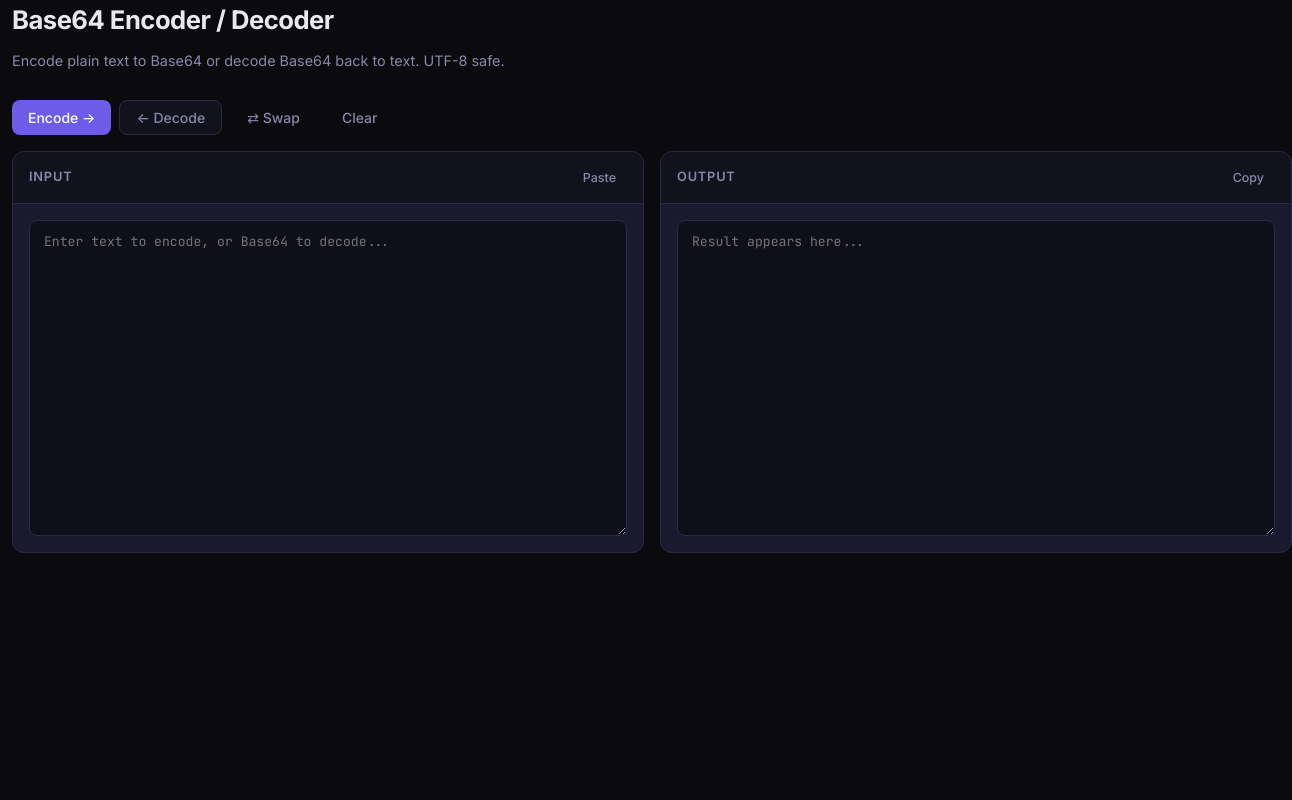
Test case: Base64Tool › decodes invalid Base64 shows error
Type "!!!invalid!!!" into the text box with placeholder "Enter text to encode, or Base64 to decode..." at (328,378), box [29,220,627,536]
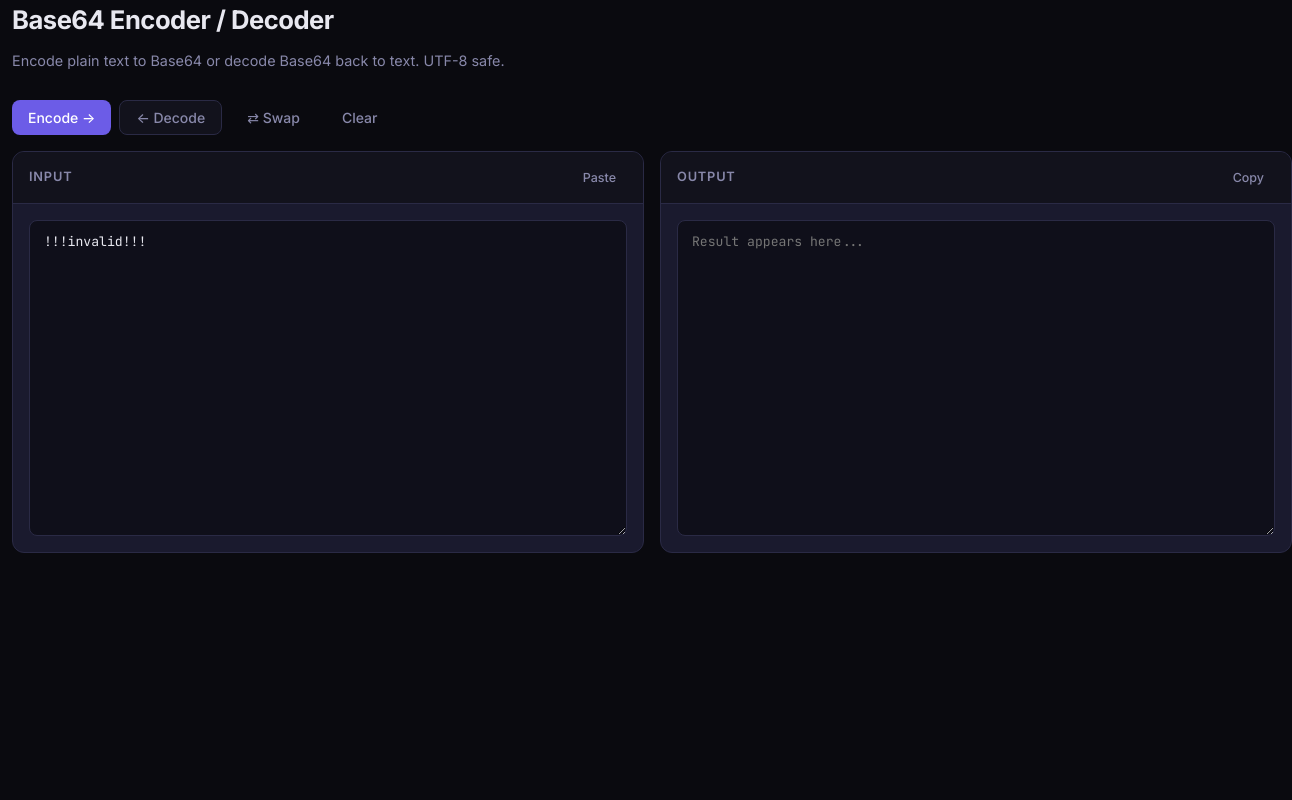
Click the button "← Decode" at (171,118), box [119,100,222,135]
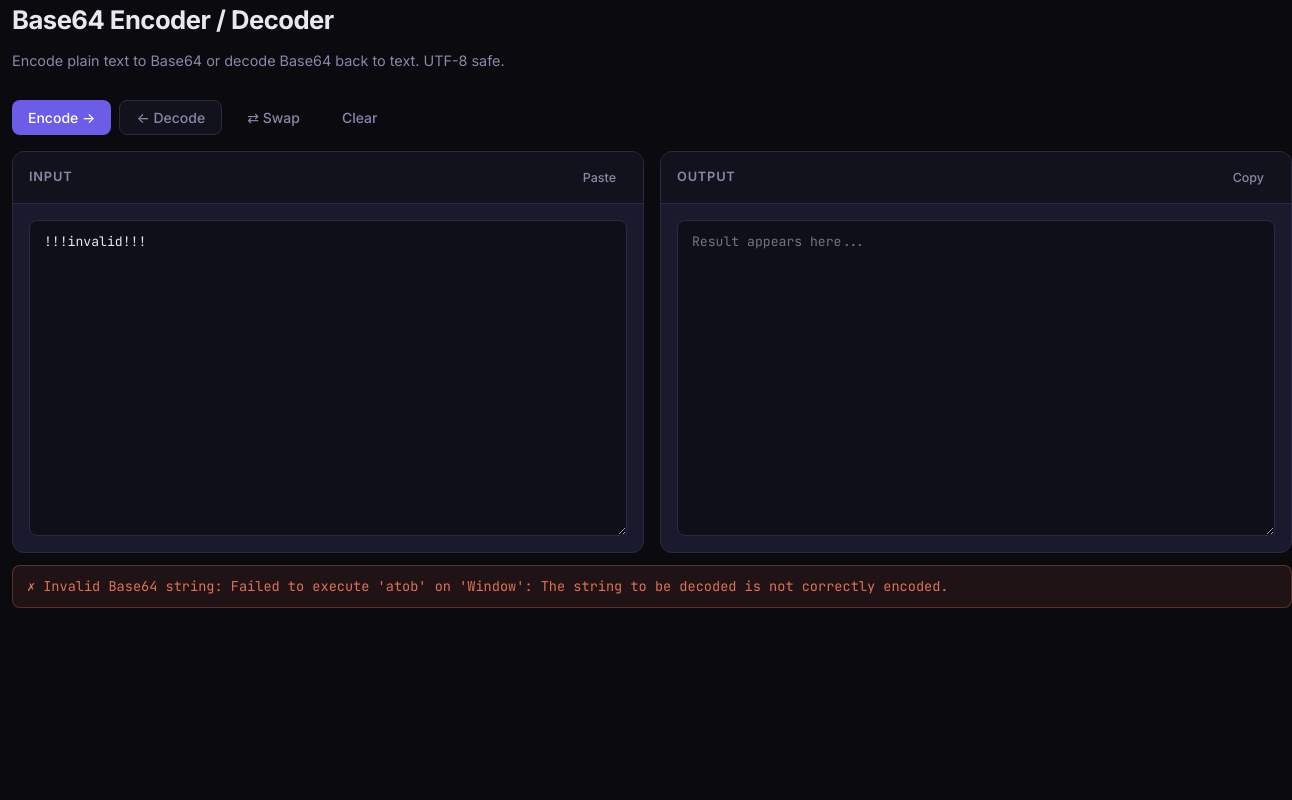
Check: the text "Invalid Base64" is shown, box [43,576,948,594]
